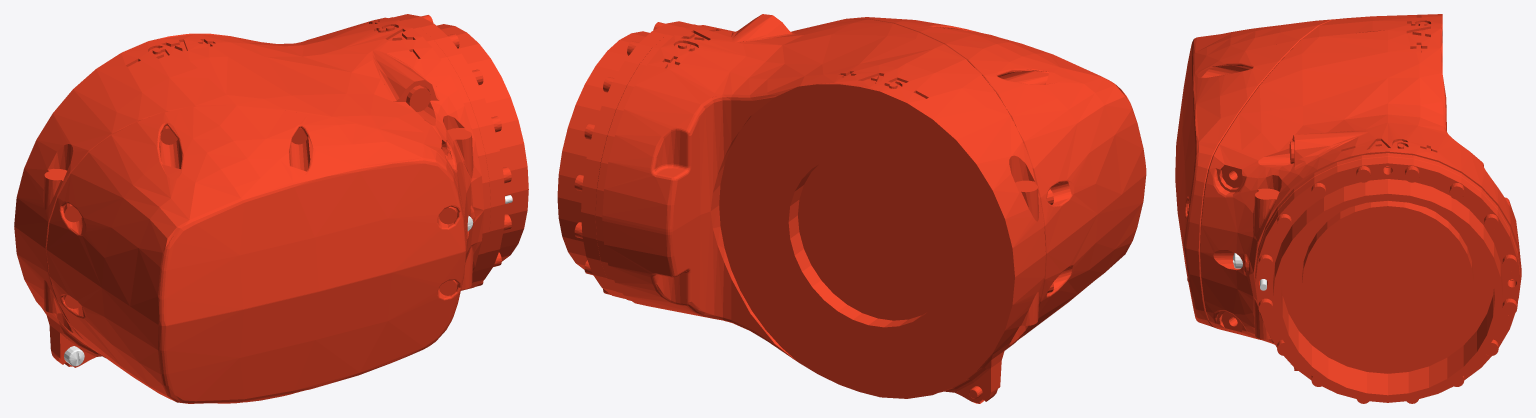
3 views of the same model, side by side, from view 1: azimuth 30°, elevation 25°; view 2: azimuth 150°, elevation 25°; view 3: azimuth 270°, elevation 25° (orthographic). The views are drawn at different scales.
Visible parts, largest first — view 1: link_5; view 2: link_5; view 3: link_5.
Boxes of the visible parts, <box> form: link_5: <box>14,14,528,403</box>; link_5: <box>557,14,1146,403</box>; link_5: <box>1175,14,1521,403</box>.
Size of the model in its own units: 0.2662 by 0.2019 by 0.1835.
